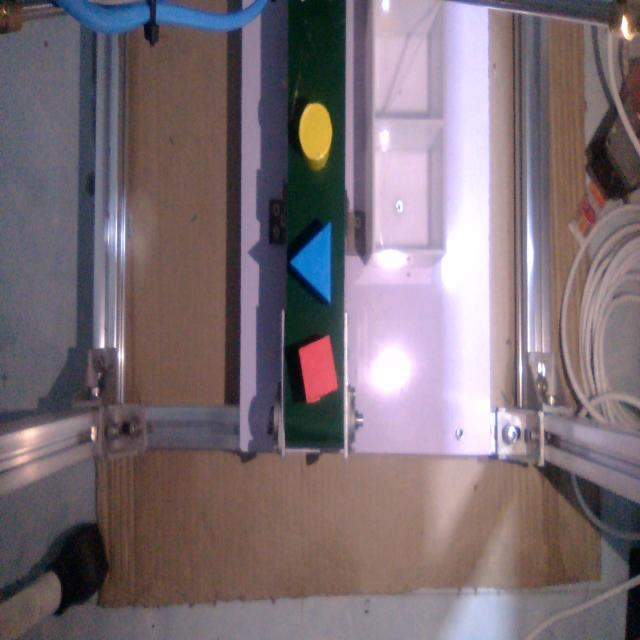BlueTri: (289, 214, 335, 315)
RedRec: (294, 331, 340, 415)
YelCir: (298, 99, 334, 177)
